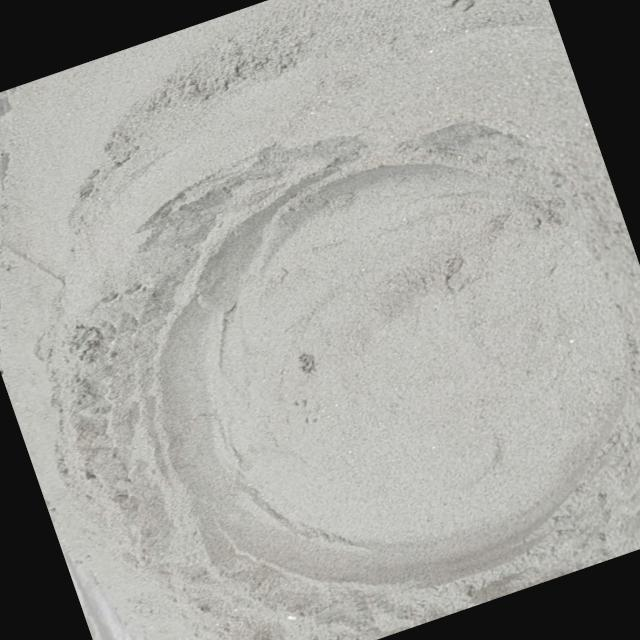C40: (130, 156, 638, 599)
